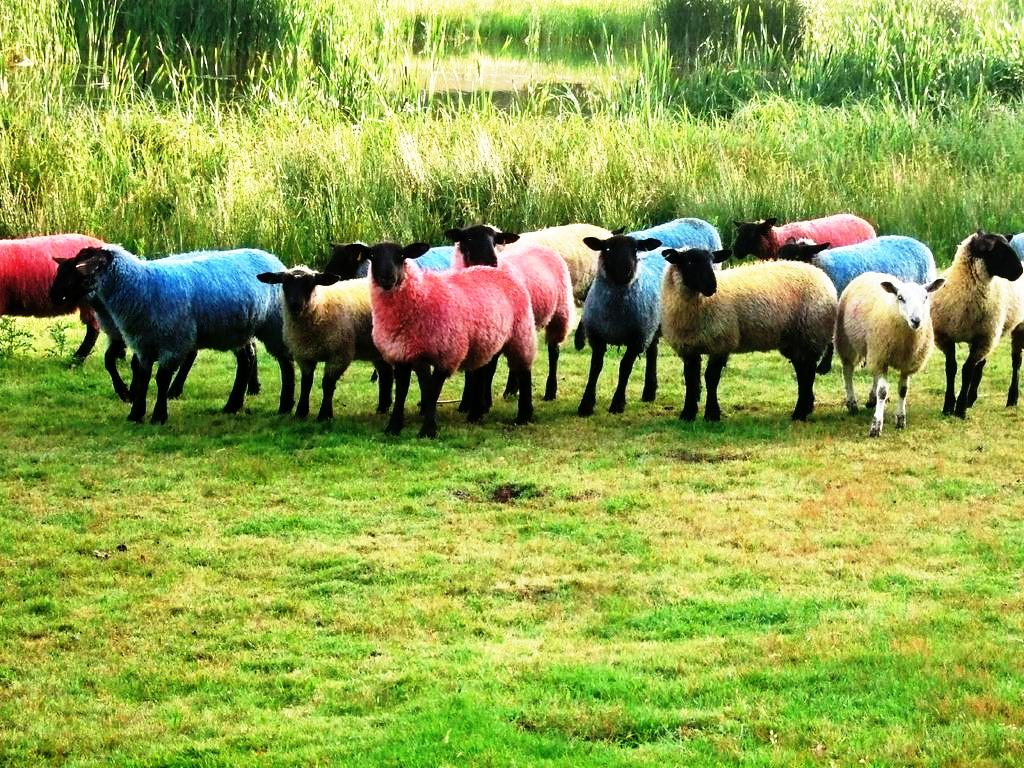Sheep: (57, 243, 293, 425), (338, 243, 540, 430), (658, 241, 844, 429), (47, 243, 263, 397), (582, 211, 727, 410), (261, 264, 425, 427), (440, 218, 574, 400), (574, 231, 694, 418), (443, 214, 607, 344), (326, 237, 462, 385), (930, 226, 1024, 416), (841, 264, 936, 428), (0, 233, 109, 367), (776, 234, 936, 293), (725, 210, 871, 272)
